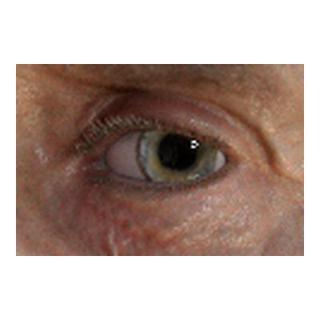pupil: (158, 132, 197, 171)
